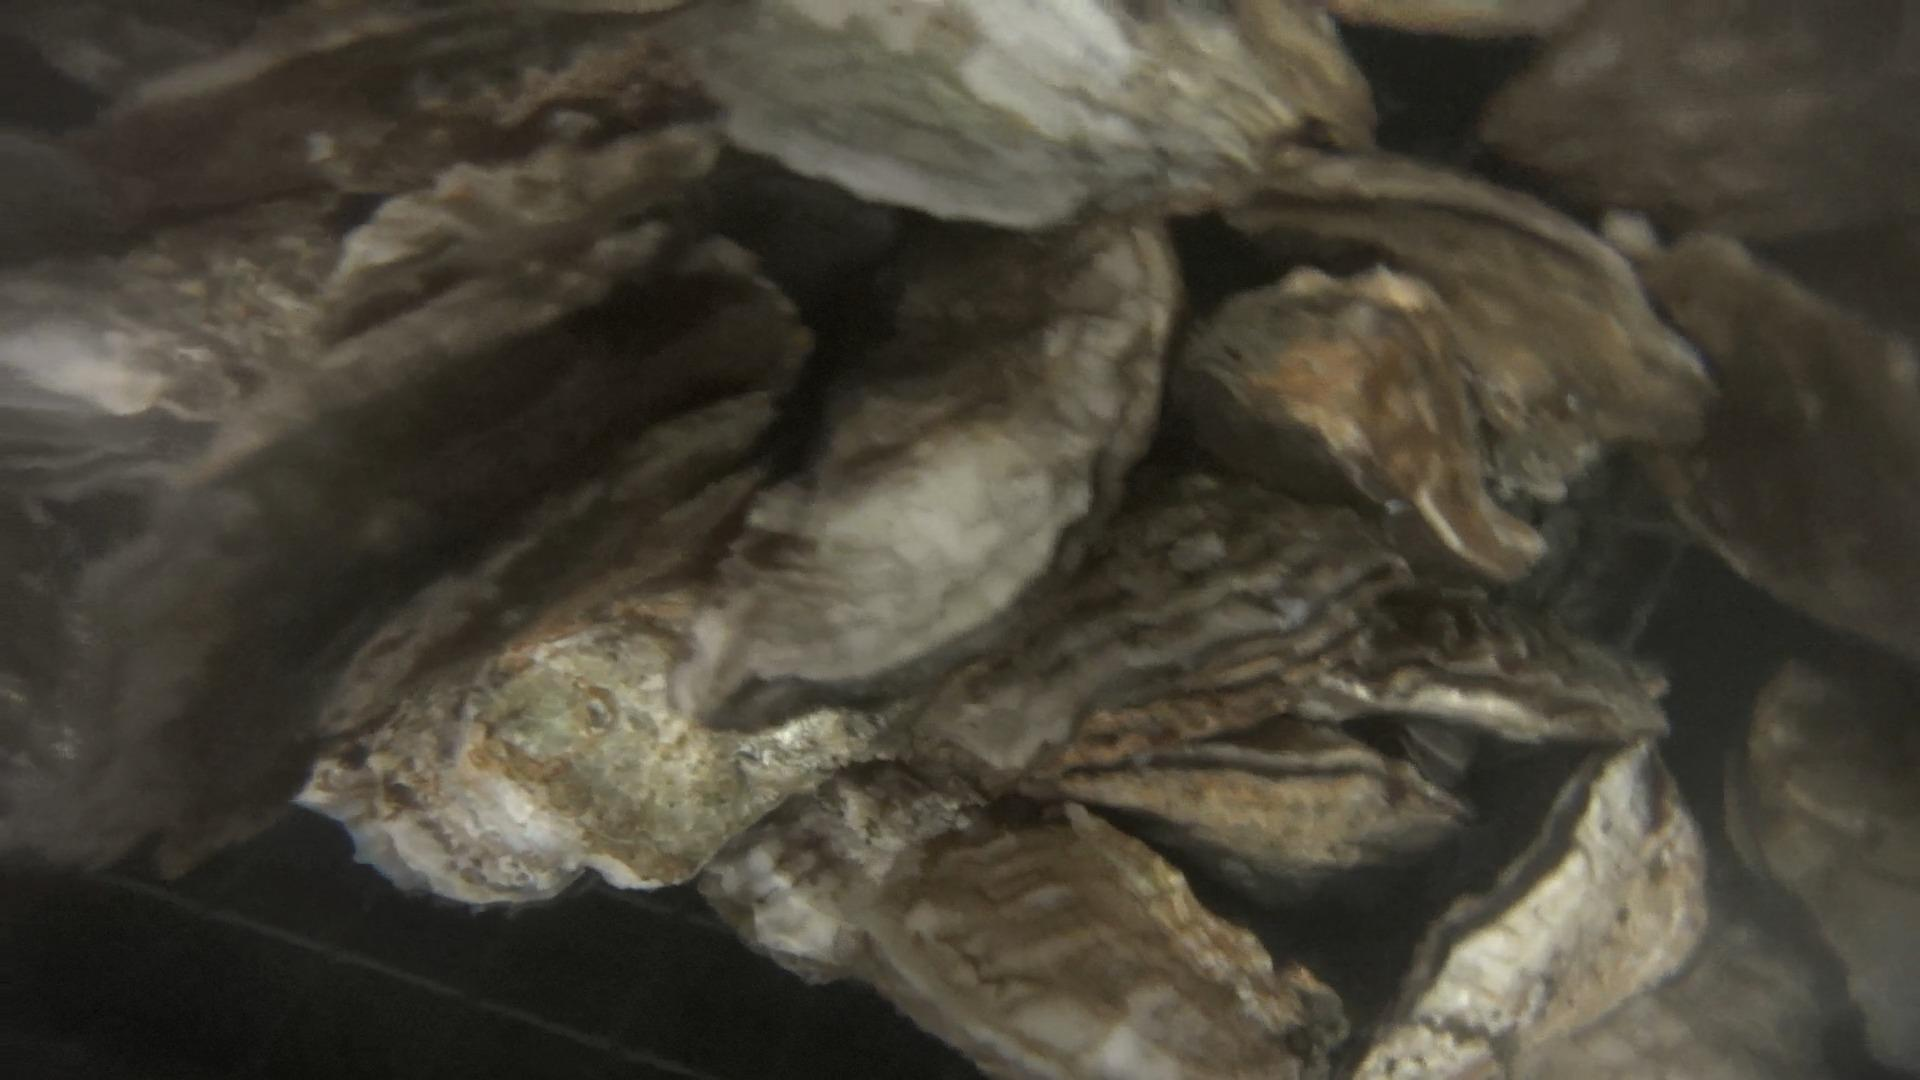3: (1234, 148, 1712, 425), (1352, 740, 1710, 1080), (1062, 717, 1461, 906)
Oyster- Indeterminate: (303, 595, 855, 905), (1607, 218, 1920, 678), (1178, 265, 1564, 582), (1724, 661, 1920, 1076), (1441, 301, 1605, 501), (1329, 0, 1577, 42)
Oyster-Closed: (702, 220, 1182, 731), (913, 475, 1667, 774), (845, 825, 1346, 1080)
